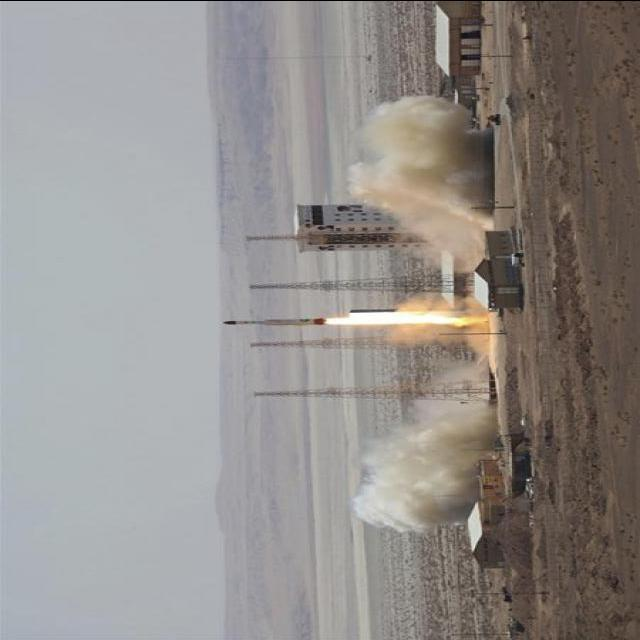missile: (207, 314, 333, 328)
